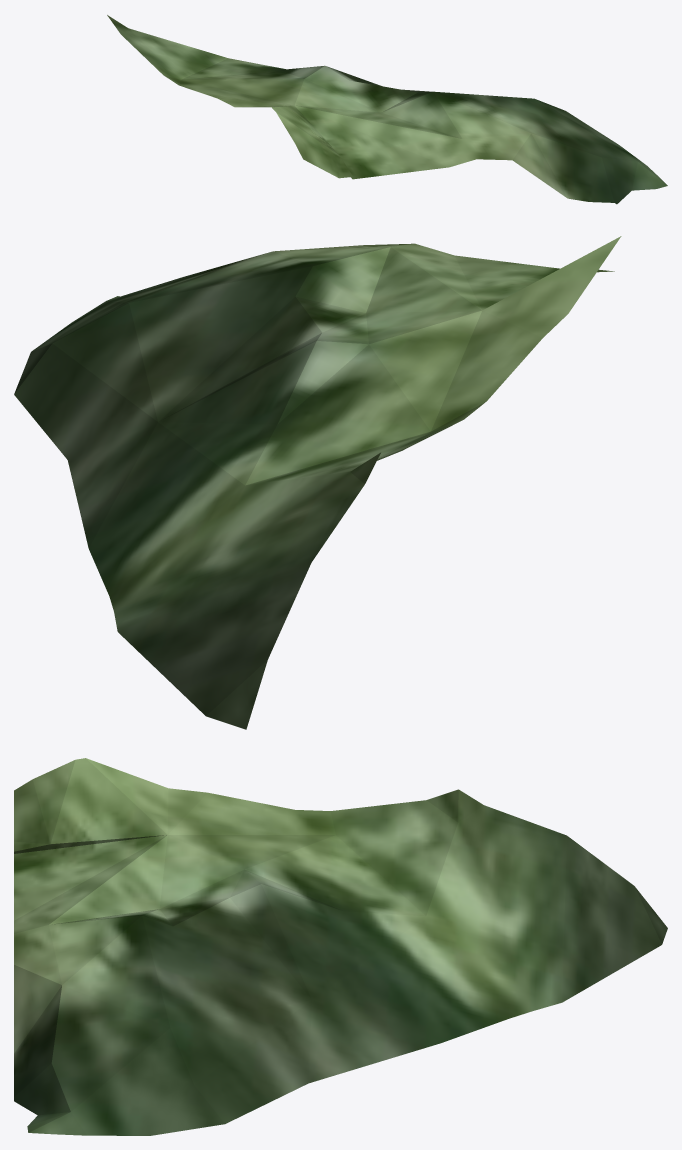
3 renders of one model, top to bottom at view 1: azimuth 30°, elevation 25°; view 2: azimuth 150°, elevation 25°; view 3: azimuth 270°, elevation 25°, orthographic. The views are drawn at different scales.
Bounding box in the file's own units: 1.31 × 0.5016 × 1.75.
1 material, 1 textured.
